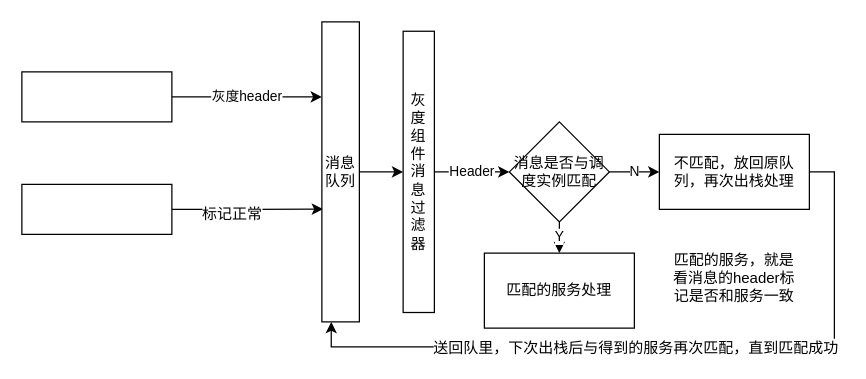
The diagram is 866 pixels wide and 379 high, and some of its shapes have lost their labels. Each missing label, with the centre of its shape:
"正常服务A" goes at pixel 96 208.
"灰度服务A" goes at pixel 96 96.
